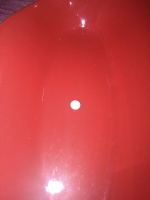Yuvarlak Buskopan: (69, 99, 82, 111)
